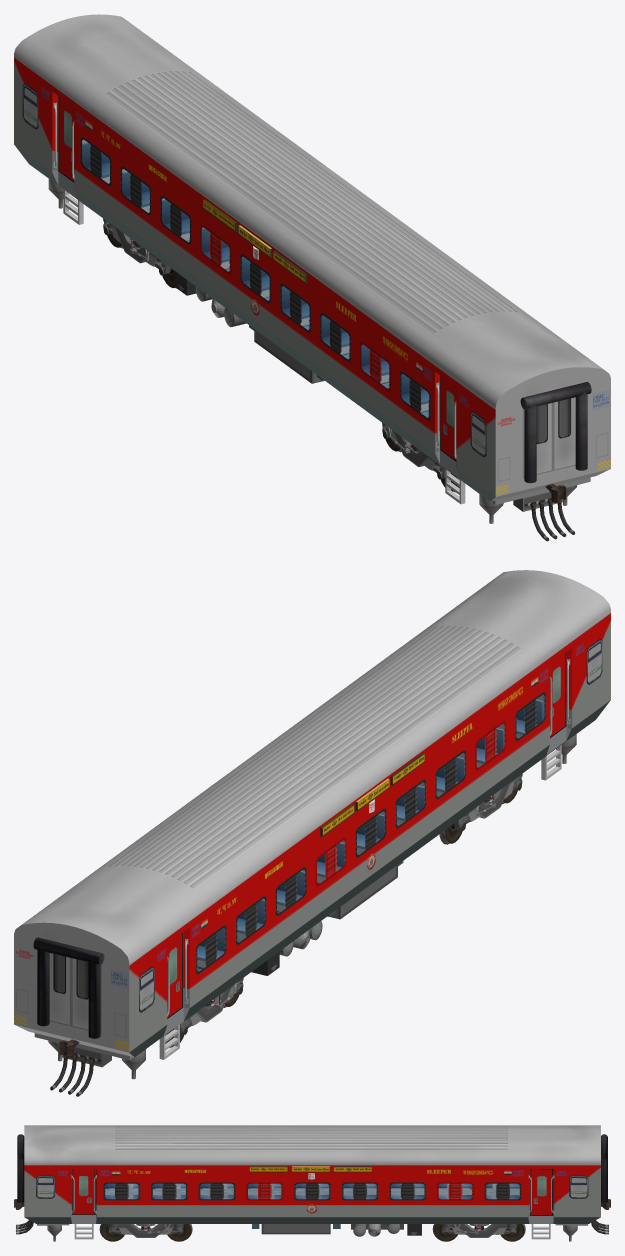
File: lhb_slp.glb
The picture shows the model from 3 angles, top to bottom: view 1: azimuth 30°, elevation 25°; view 2: azimuth 150°, elevation 25°; view 3: azimuth 270°, elevation 25°; orthographic projection. The views are drawn at different scales.
Parts seen in each view (by area): view 1: coach; view 2: coach; view 3: coach.
Boxes of the visible parts, x1,y1,x2,y2 form: coach: (14, 14, 610, 541); coach: (14, 570, 610, 1096); coach: (14, 1125, 610, 1241).
Bounding box in the file's own units: 3.12 × 4.19 × 22.5.
10 materials, 9 textured.
